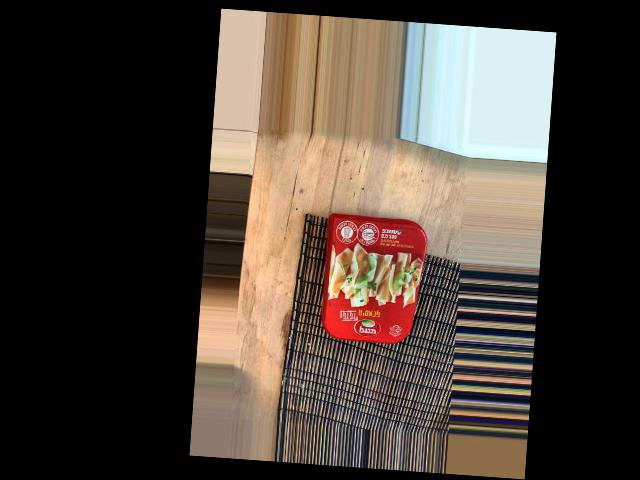cheese: (314, 298, 451, 395)
